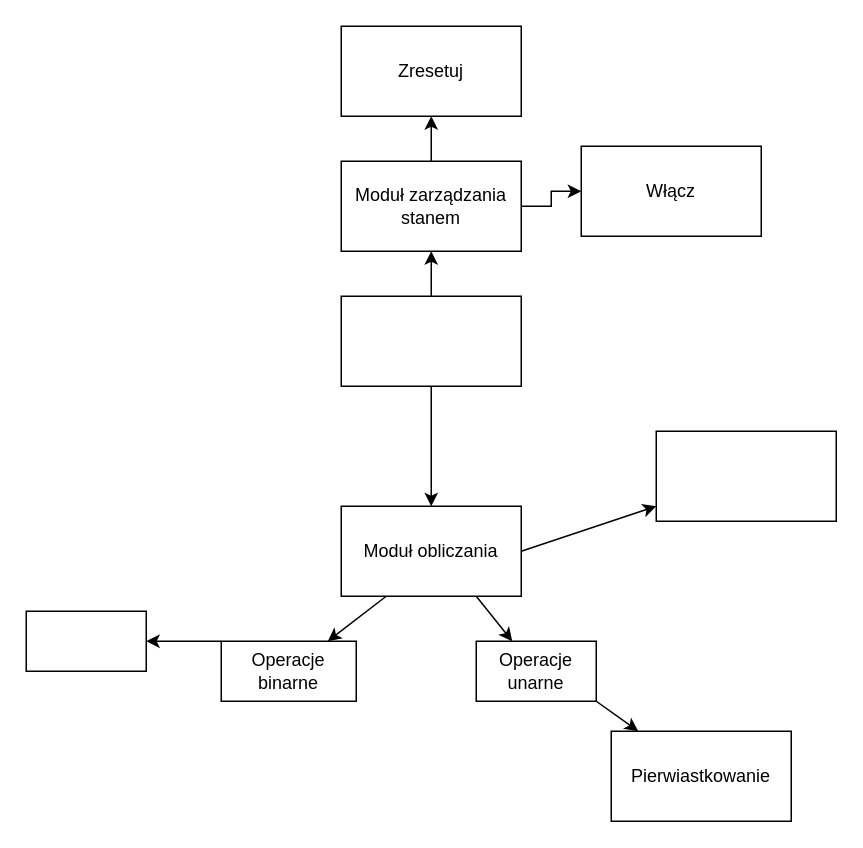
This 863x848 diagram has some shape labels left out. Here are the shapes that lost their labels. From the top down, the centre of each, then its label:
At (x=430, y=340): "Kalkulator".
At (x=745, y=475): "Cyfry".
At (x=85, y=640): "Dodawanie".
